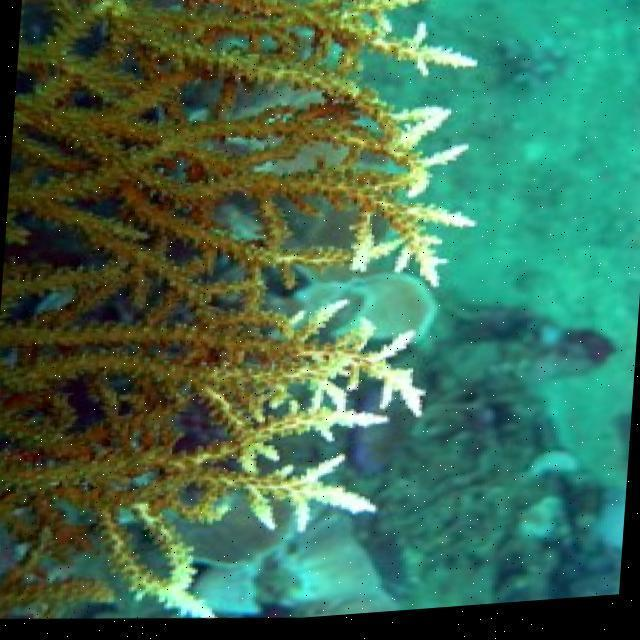Bleached Coral: (88, 0, 498, 635)
